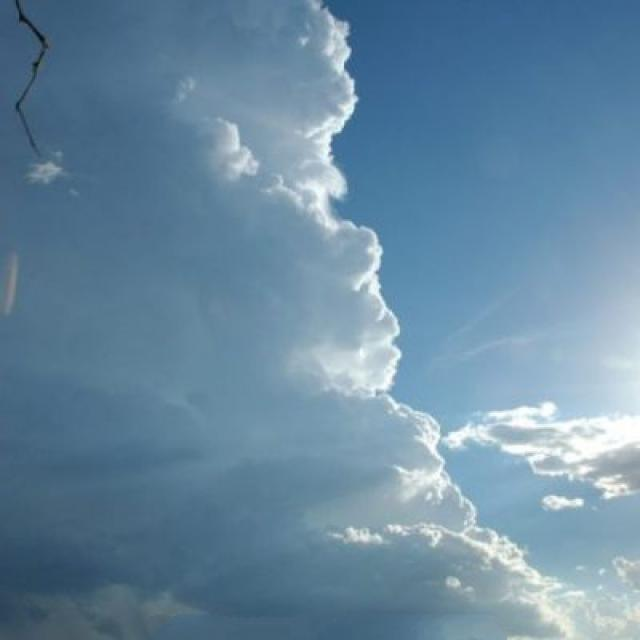Cb: (4, 193, 633, 574)
